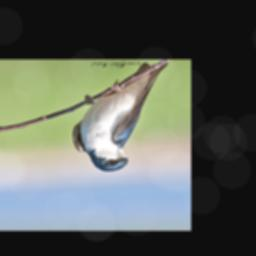Swallow: (72, 61, 169, 173)
